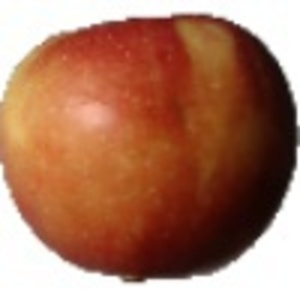maçã braeburn: (1, 12, 299, 280)
